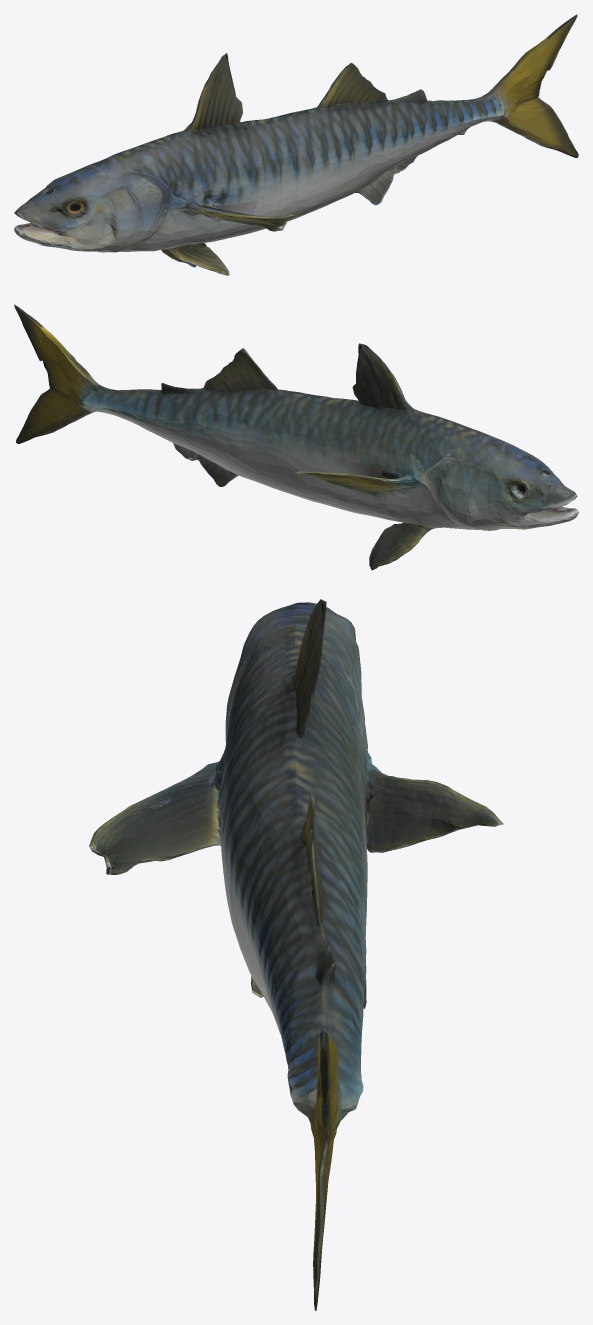
Rendered from 고등어_에셋_1_0531163347_texture.fbx.
3 views of the same model, one above another, from view 1: azimuth 30°, elevation 25°; view 2: azimuth 150°, elevation 25°; view 3: azimuth 270°, elevation 25° (orthographic). The views are drawn at different scales.
Visible parts, largest first — view 1: temp; view 2: temp; view 3: temp.
Part boxes in pixels (left/top/right/bottom): temp: left=14, top=14, right=578, bottom=275; temp: left=14, top=304, right=578, bottom=570; temp: left=89, top=599, right=503, bottom=1310.
Size of the model in its own units: 200 by 73.31 by 64.23.
Materials: 1 (1 with a texture image).
